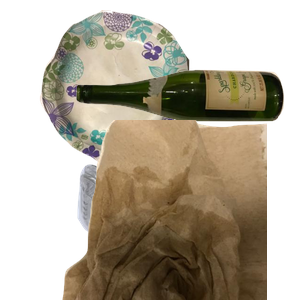glass: (74, 67, 300, 181)
paper: (37, 10, 219, 167)
plastic: (75, 147, 289, 300)
trash: (60, 120, 300, 300)
